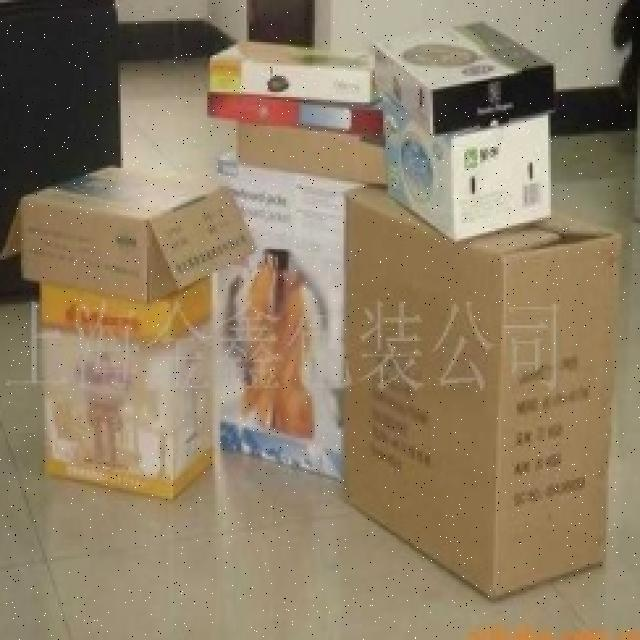box: (341, 180, 640, 630), (218, 136, 372, 510), (20, 271, 206, 510), (378, 27, 582, 209), (16, 168, 238, 294), (222, 118, 406, 184), (214, 33, 376, 98), (200, 83, 408, 130)
